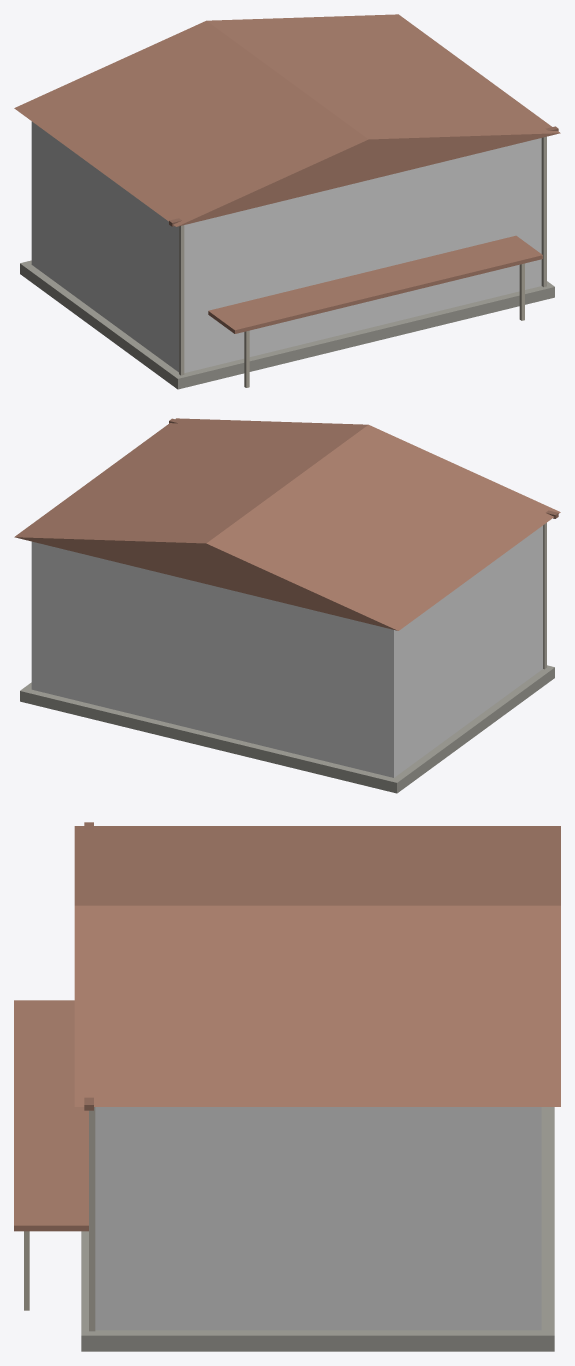
3 views of the same model, one above another, from view 1: azimuth 30°, elevation 25°; view 2: azimuth 150°, elevation 25°; view 3: azimuth 270°, elevation 25° (orthographic). The views are drawn at different scales.
Visible parts, largest first — view 1: Visual; view 2: Visual; view 3: Visual.
Part boxes in pixels (box(x1,y1,x2,y2)): Visual: box(14, 14, 560, 389); Visual: box(14, 418, 560, 793); Visual: box(14, 822, 560, 1351).
Size of the model in its own units: 41.8 by 21.25 by 34.2.
